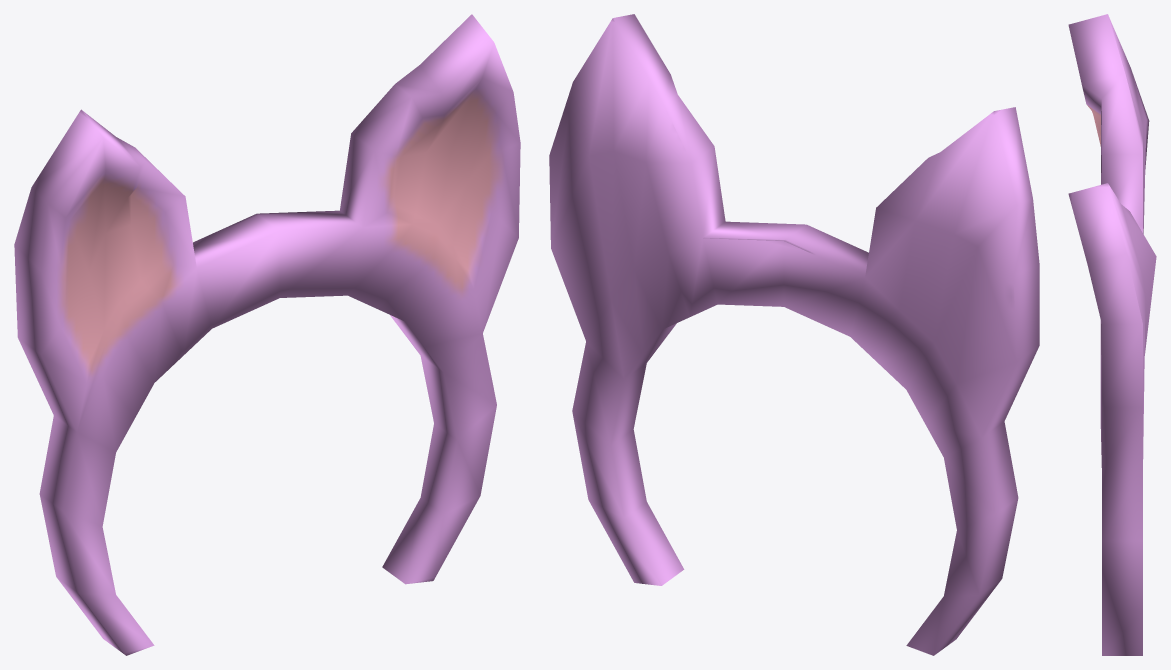
Rendered from OrelhasDeGato.fbx.
3 views of the same model, side by side, from view 1: azimuth 30°, elevation 25°; view 2: azimuth 150°, elevation 25°; view 3: azimuth 270°, elevation 25° (orthographic). The views are drawn at different scales.
Parts seen in each view (by area): view 1: OrelhasDeGato; view 2: OrelhasDeGato; view 3: OrelhasDeGato.
Boxes of the visible parts, bbox=[...] form: OrelhasDeGato: bbox=[14, 14, 520, 655]; OrelhasDeGato: bbox=[549, 14, 1039, 655]; OrelhasDeGato: bbox=[1068, 14, 1156, 655].
Bounding box in the file's own units: 260 × 288 × 46.81.
